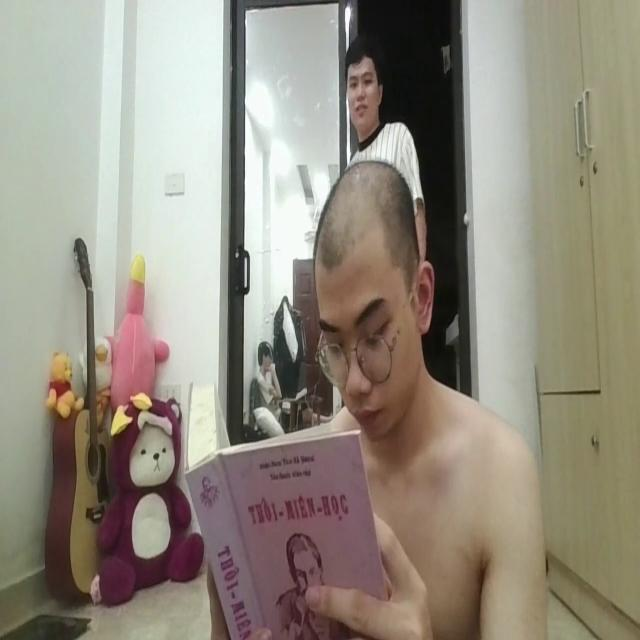book: (176, 369, 392, 640)
extra_person: (334, 50, 425, 208), (248, 331, 282, 419)
student: (301, 161, 548, 640)
